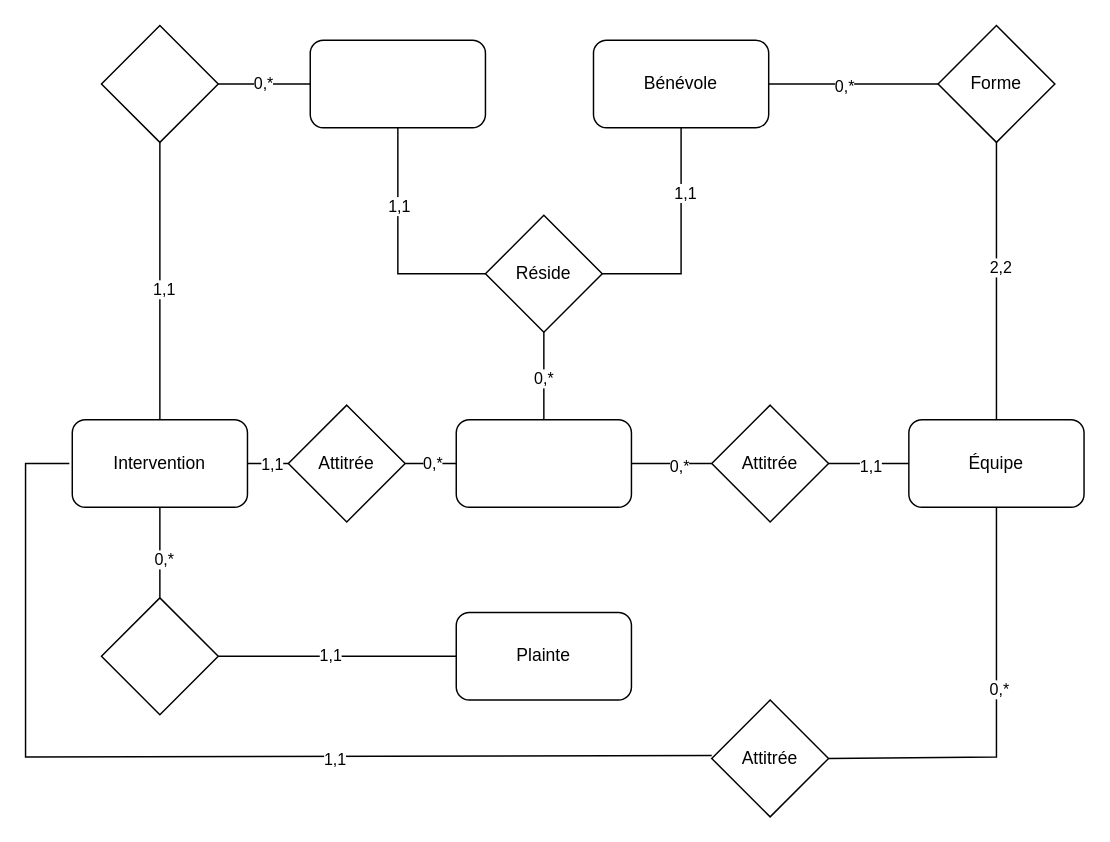
The diagram is 1110 pixels wide and 842 high, and some of its shapes have lost their labels. Here are the shapes that lost their labels. From the top down, the centre of each, then its label:
At point 159,83: "Demande".
At point 397,83: "Usager".
At point 543,462: "Secteur".
At point 159,655: "Attribuée".
